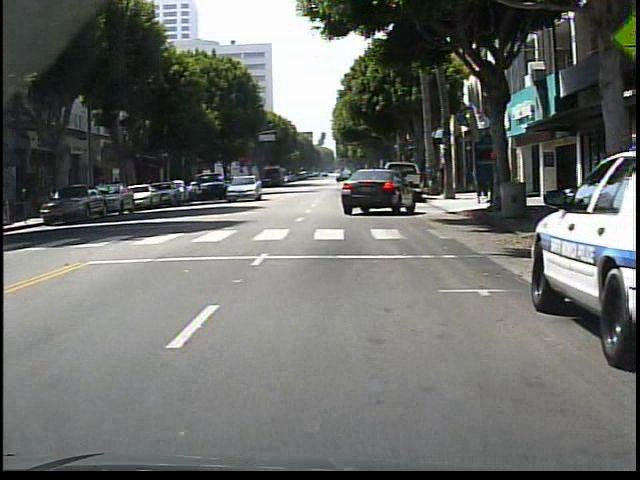person: (470, 159, 492, 207)
